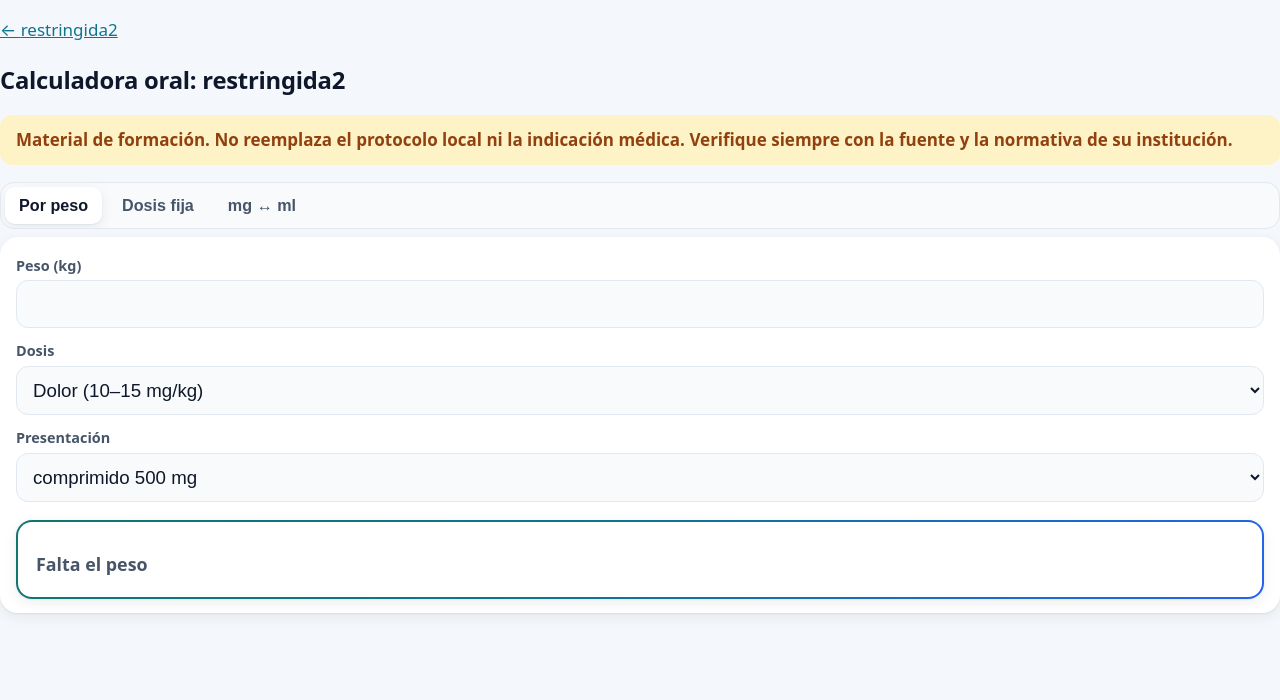
Test case: CalculadoraOral › si la presentación elegida no aplica a la dosis nueva, cambia a la primera aplicable
Click the tab "Dosis fija".
click(158, 205)  # box [108,187,208,224]
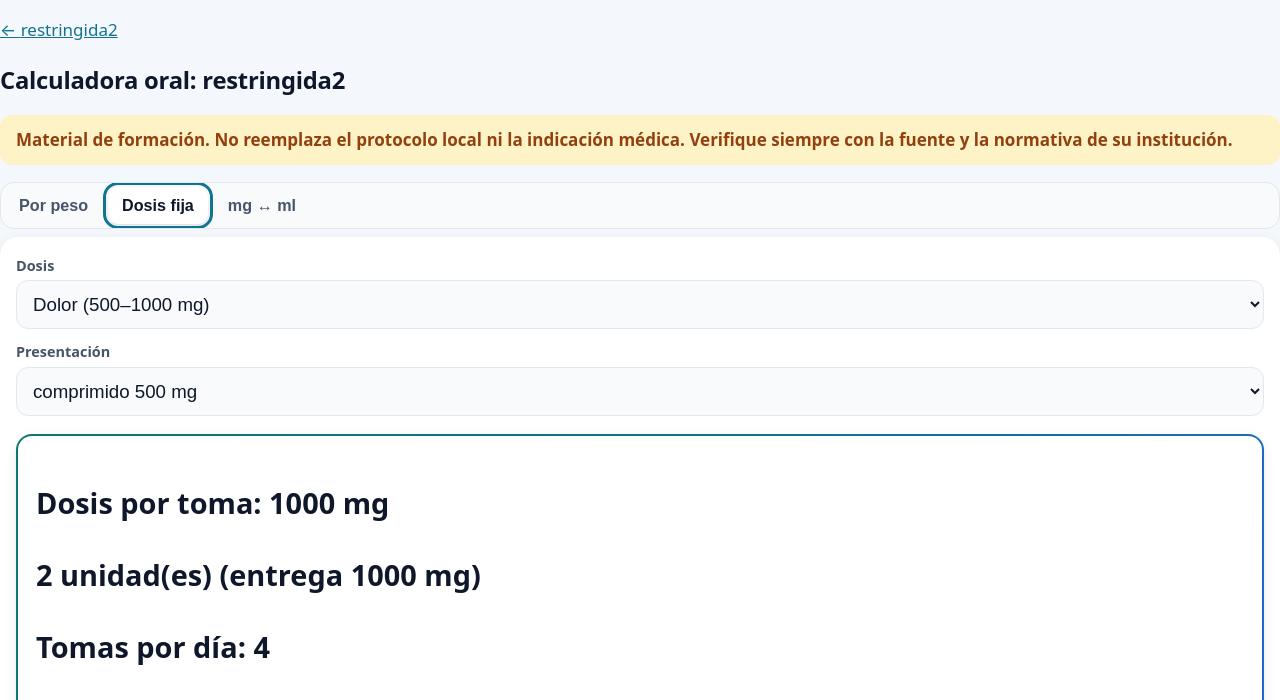
Select "comprimido 500 mg" in the dropdown labelled "Presentación" at (640, 392), box [16,367,1264,416]
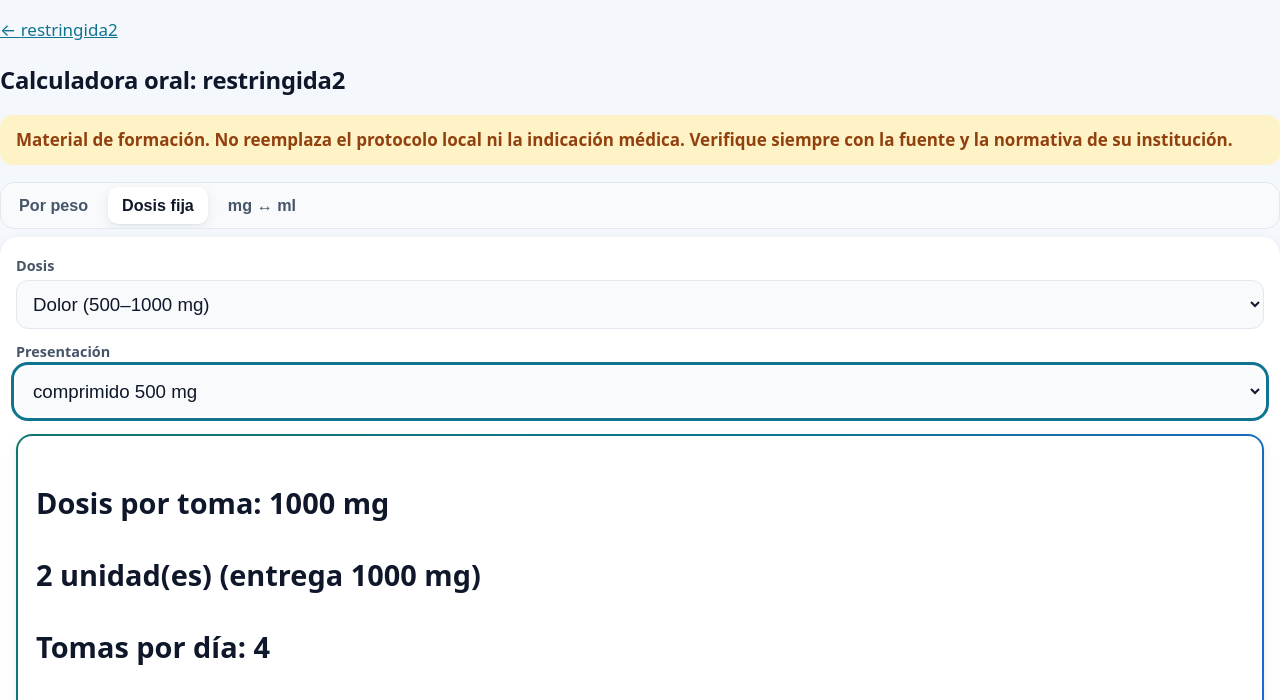
Select "Solo jarabe (500–300 mg)" in the dropdown labelled "Dosis" at (640, 305), box [16,280,1264,329]
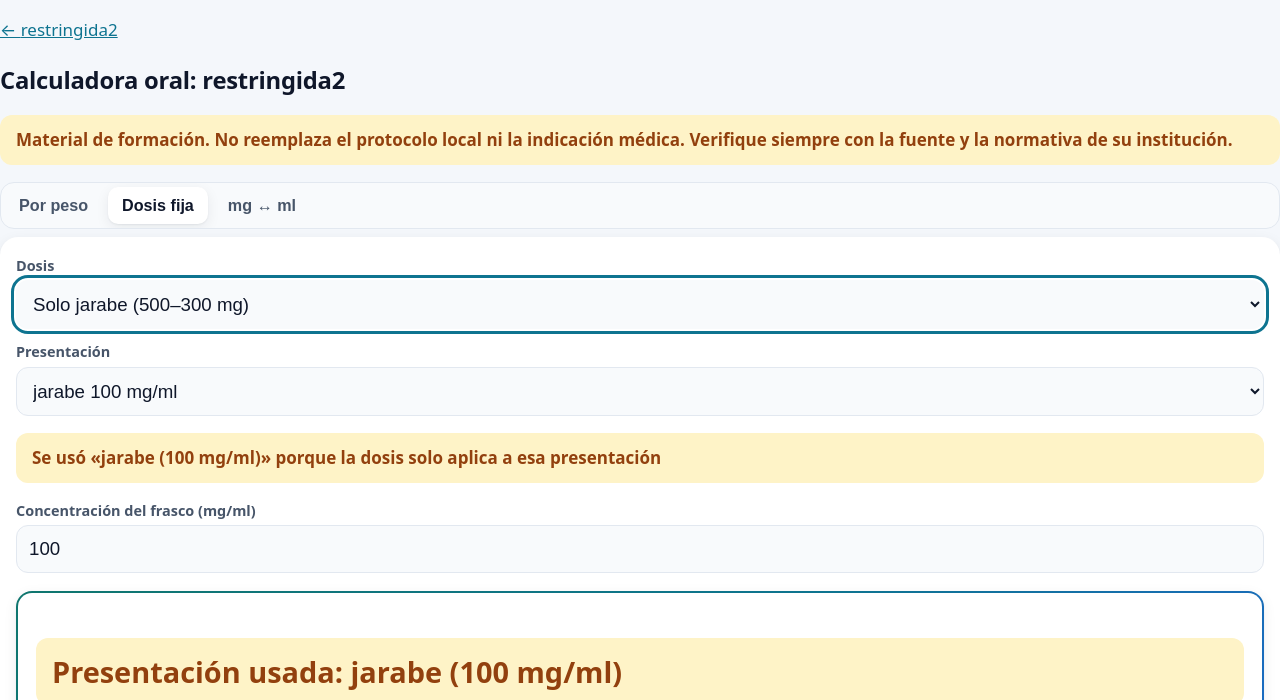
Check: the field labelled "Concentración del frasco (mg/ml)" holds "100", box [16,525,1264,573]
